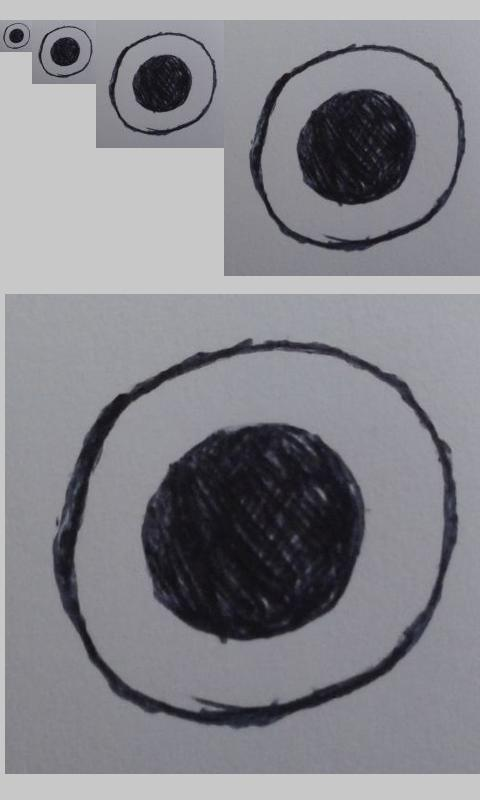radio_button: (52, 337, 459, 729), (250, 43, 466, 251), (108, 31, 217, 136), (38, 25, 93, 79), (2, 22, 31, 50)
